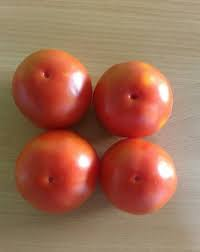tomato: (14, 130, 96, 210), (12, 46, 92, 127), (94, 60, 174, 138), (102, 137, 179, 216)
